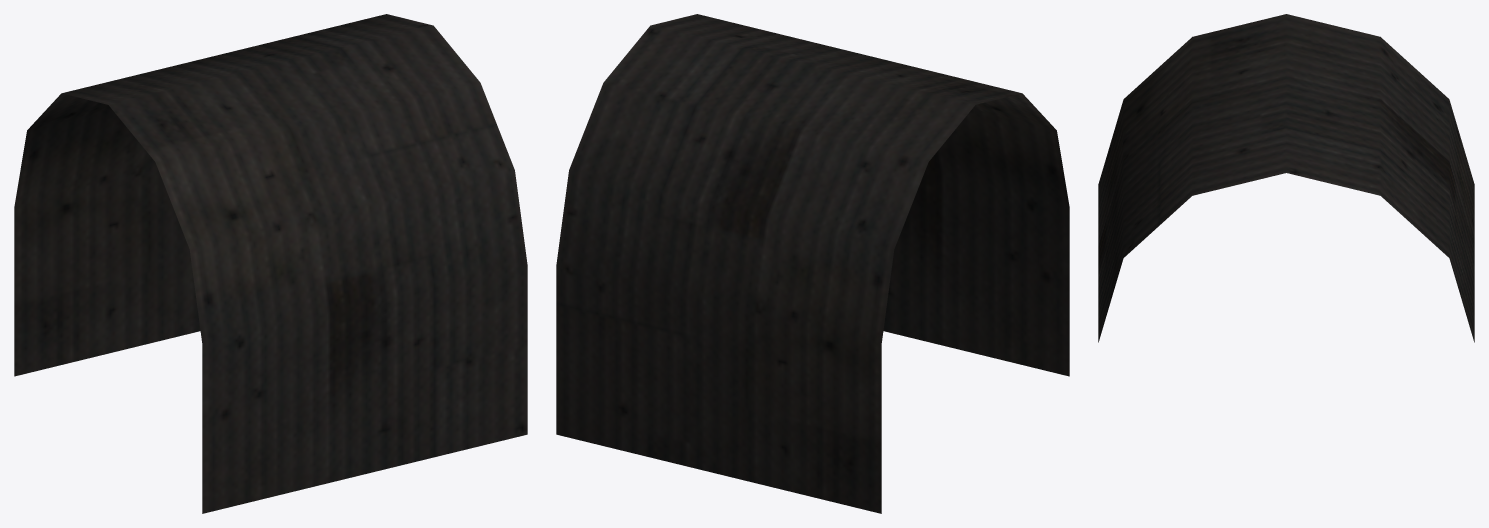
File: tunnel_1.fbx
3 views of the same model, side by side, from view 1: azimuth 30°, elevation 25°; view 2: azimuth 150°, elevation 25°; view 3: azimuth 270°, elevation 25° (orthographic).
Parts seen in each view (by area): view 1: tunnel_1; view 2: tunnel_1; view 3: tunnel_1.
Boxes of the visible parts, box(x1,y1,x2,y2) form: tunnel_1: box(14, 14, 527, 513); tunnel_1: box(556, 14, 1069, 513); tunnel_1: box(1098, 14, 1474, 342).
Bounding box in the file's own units: 200 × 200 × 200.
